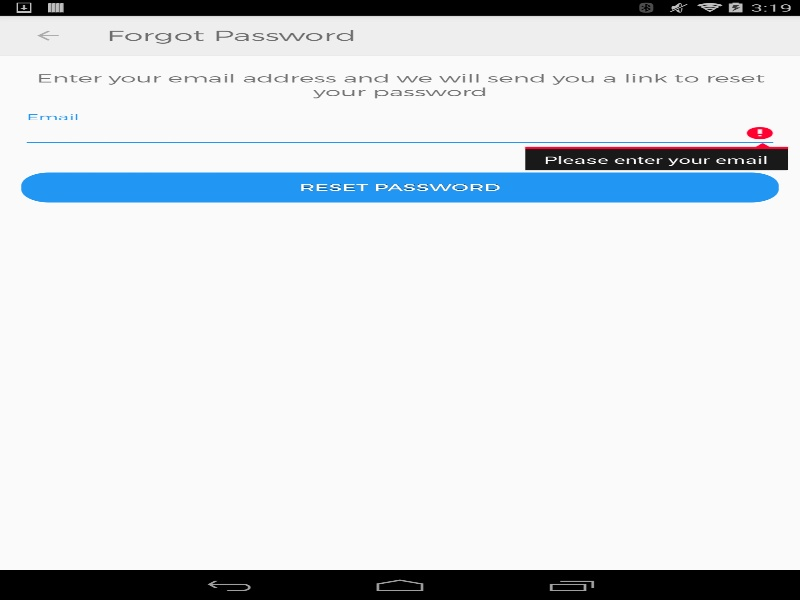Button: (21, 172, 778, 202), (10, 15, 85, 55)
Input: (21, 119, 778, 147)
